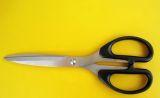scissor: (4, 36, 153, 94)
